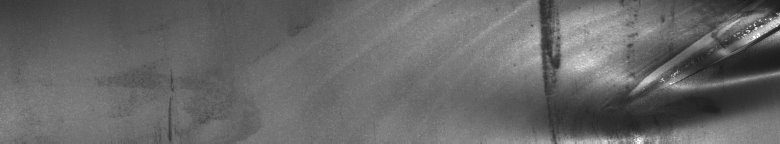ke: (532, 4, 776, 136)
